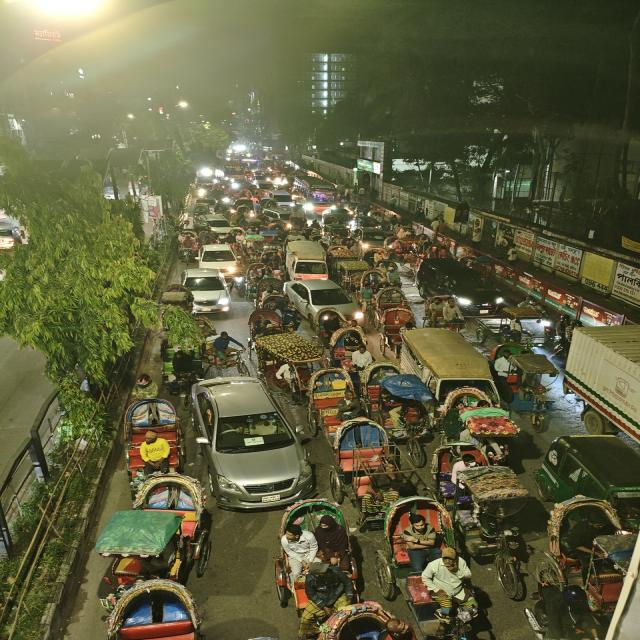bus: (294, 177, 339, 215)
car: (189, 375, 314, 511), (414, 256, 506, 312), (286, 278, 366, 324), (181, 267, 234, 315), (198, 242, 244, 272), (356, 229, 394, 251), (202, 216, 238, 236)
cng: (535, 432, 640, 513), (357, 215, 382, 231)
human_hauler: (401, 332, 499, 402), (285, 239, 330, 280)
rickshaw: (91, 474, 216, 640), (374, 494, 480, 639), (267, 496, 365, 634), (429, 448, 527, 584), (328, 415, 398, 511), (495, 337, 559, 428), (375, 364, 441, 440), (119, 418, 180, 482), (450, 388, 522, 440), (305, 367, 355, 421), (376, 304, 415, 356), (328, 325, 370, 369), (335, 256, 382, 294), (330, 246, 370, 288), (242, 262, 270, 306), (355, 269, 386, 302), (248, 308, 283, 337), (260, 244, 281, 274)
truck: (569, 326, 640, 430)
